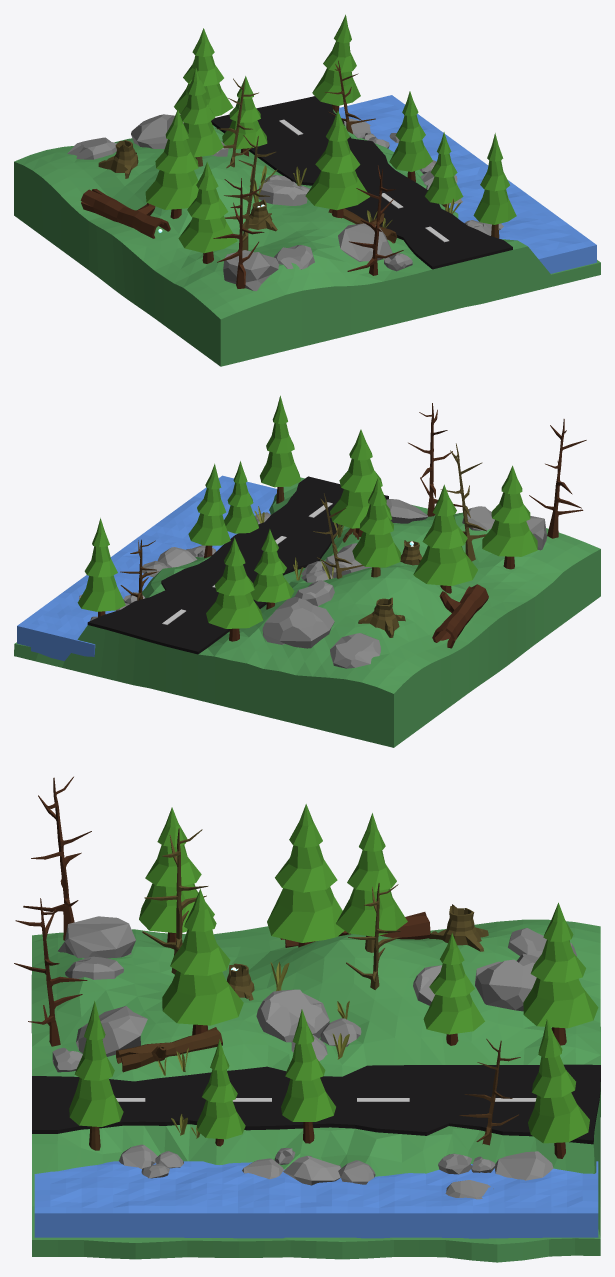
The model's file is low_poly_forest_road.glb.
The picture shows the model from 3 angles, top to bottom: view 1: azimuth 30°, elevation 25°; view 2: azimuth 150°, elevation 25°; view 3: azimuth 270°, elevation 25°; orthographic projection. The views are drawn at different scales.
Parts seen in each view (by area): view 1: Terrain_1, Road_3, Water_2, Tree.001_43, Tree.007_57, Tree.009_60, Tree.002_58, Tree_42, Tree.003_46, Tree.008_59, TrunkLong_49, Tree.006_55 (+15 smaller); view 2: Terrain_1, Road_3, Water_2, Tree.007_57, Tree.009_60, Tree.008_59, Tree.001_43, Stone.002_17, Tree_42, Tree.002_58, Tree.003_46, Tree.006_55 (+15 smaller); view 3: Terrain_1, Water_2, Road_3, Tree.001_43, Tree.007_57, Tree.008_59, Tree.002_58, Tree_42, Tree.009_60, Tree.003_46, Tree.006_55, Tree.004_53 (+24 smaller).
Part boxes in pixels (<box>): Terrain_1: <box>14,109,600,366</box>; Road_3: <box>211,96,512,269</box>; Water_2: <box>339,95,596,273</box>; Tree.001_43: <box>305,110,369,218</box>; Tree.007_57: <box>145,109,198,218</box>; Tree.009_60: <box>178,161,237,263</box>; Tree.002_58: <box>312,14,360,112</box>; Tree_42: <box>180,67,223,166</box>; Tree.003_46: <box>473,133,516,238</box>; Tree.008_59: <box>174,28,233,116</box>; TrunkLong_49: <box>80,189,170,238</box>; Tree.006_55: <box>389,91,432,181</box>; Terrain_1: <box>14,477,600,747</box>; Road_3: <box>87,476,388,654</box>; Water_2: <box>17,475,277,661</box>; Tree.007_57: <box>413,484,477,593</box>; Tree.009_60: <box>482,465,537,569</box>; Tree.008_59: <box>206,537,263,641</box>; Tree.001_43: <box>330,429,391,537</box>; Stone.002_17: <box>262,597,334,648</box>; Tree_42: <box>352,478,400,577</box>; Tree.002_58: <box>77,518,125,617</box>; Tree.003_46: <box>260,395,300,503</box>; Tree.006_55: <box>188,463,230,558</box>; Terrain_1: <box>31,919,600,1262</box>; Water_2: <box>34,1161,598,1238</box>; Road_3: <box>32,1064,600,1144</box>; Tree.001_43: <box>162,889,243,1035</box>; Tree.007_57: <box>267,804,344,947</box>; Tree.008_59: <box>523,902,598,1045</box>; Tree.002_58: <box>528,1019,589,1158</box>; Tree_42: <box>336,813,407,952</box>; Tree.009_60: <box>139,807,214,942</box>; Tree.003_46: <box>69,1001,123,1150</box>; Tree.006_55: <box>281,1009,335,1143</box>; Tree.004_53: <box>423,933,484,1045</box>.
Size of the model in its own units: 17.51 by 7.94 by 16.52.
